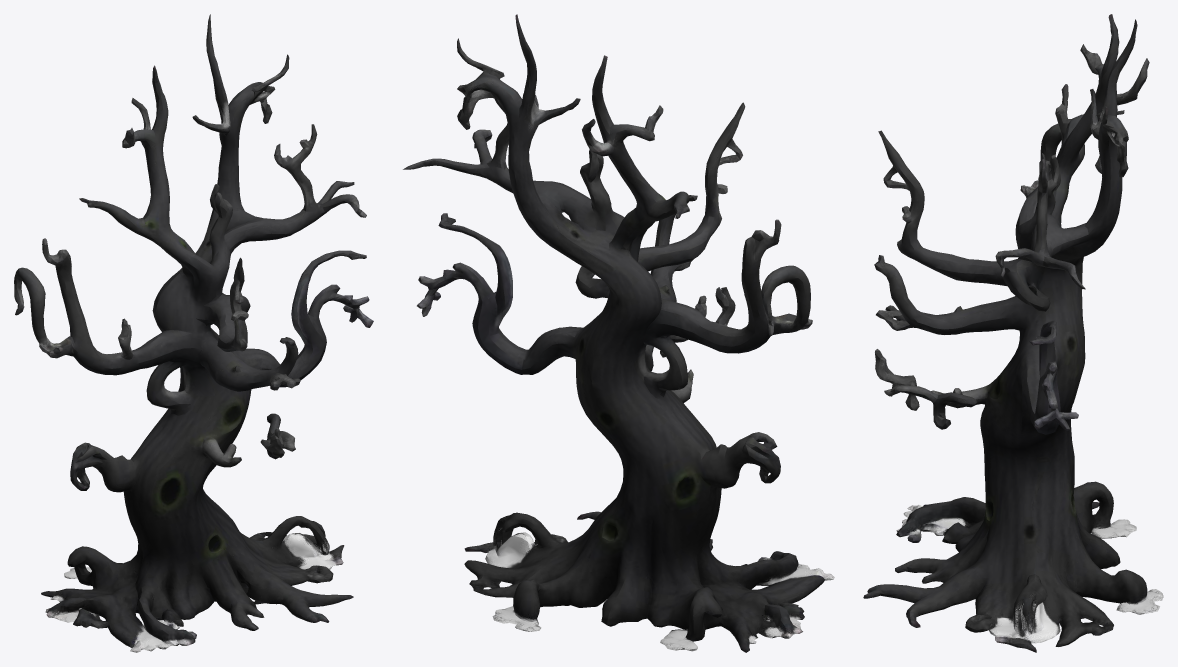
Rendered from scarytree1.glb.
The picture shows the model from 3 angles, left to right: view 1: azimuth 30°, elevation 25°; view 2: azimuth 150°, elevation 25°; view 3: azimuth 270°, elevation 25°; orthographic projection. The views are drawn at different scales.
Parts seen in each view (by area): view 1: mesh; view 2: mesh; view 3: mesh.
Boxes of the visible parts, box(x1,y1,x2,y2) form: mesh: box(14, 14, 373, 652); mesh: box(403, 14, 834, 652); mesh: box(863, 14, 1163, 652).
Bounding box in the file's own units: 0.6757 × 1 × 0.4629.
1 material, 1 textured.
